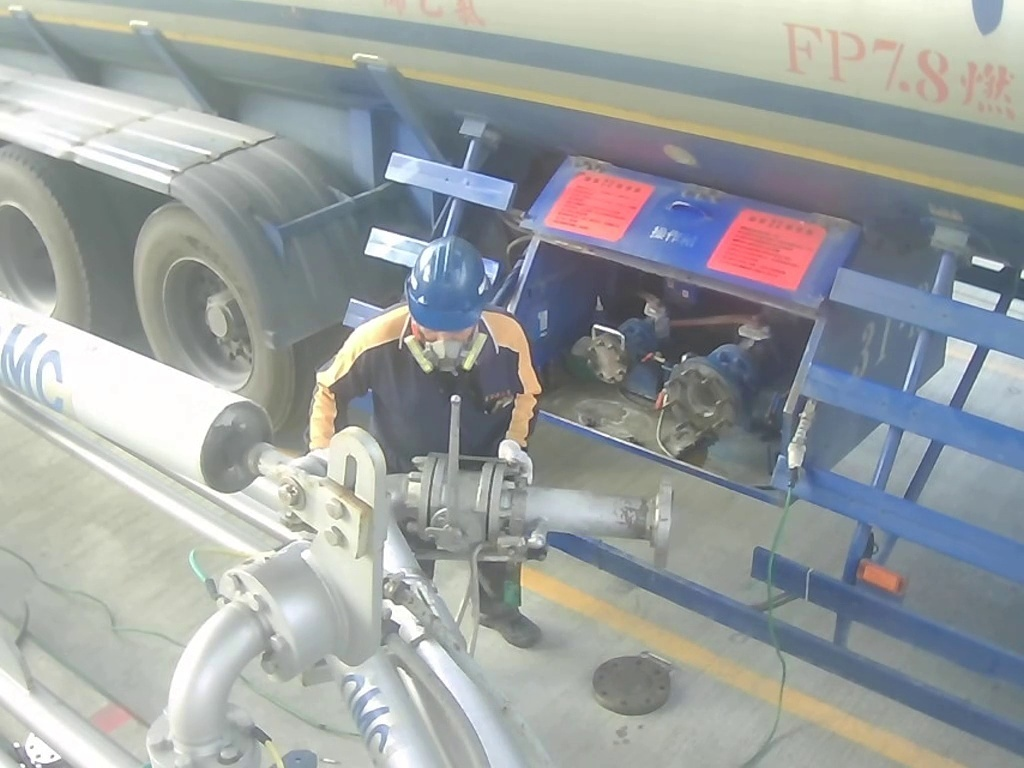helmet: (394, 233, 503, 378)
mask: (401, 330, 488, 372)
person: (298, 232, 554, 665)
